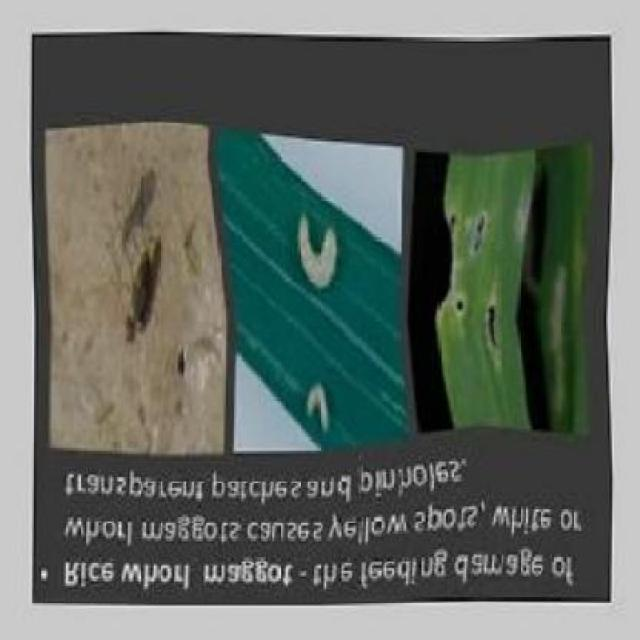whorl-maggot: (290, 207, 345, 299), (300, 378, 334, 438)
